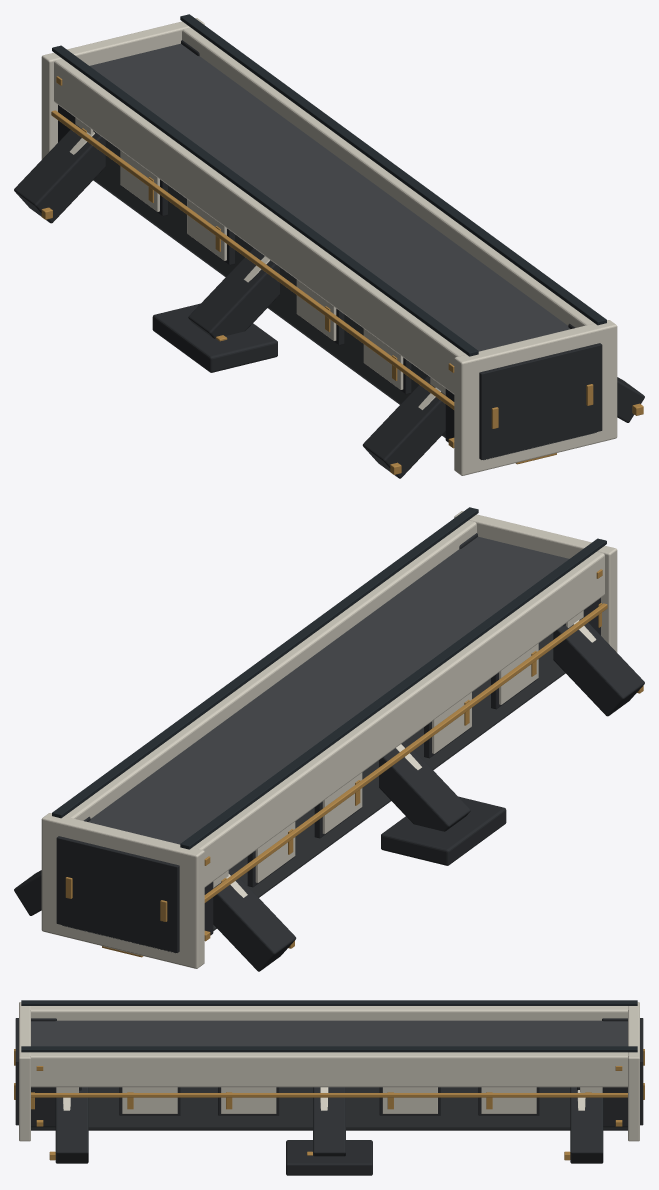
The model's file is SM_Aurelion_KIT_Z12OpenCanopySideGirder.fbx.
The picture shows the model from 3 angles, top to bottom: view 1: azimuth 30°, elevation 25°; view 2: azimuth 150°, elevation 25°; view 3: azimuth 270°, elevation 25°; orthographic projection. The views are drawn at different scales.
Visible parts, largest first — view 1: SM_Aurelion_KIT_Z12OpenCanopySideGirder; view 2: SM_Aurelion_KIT_Z12OpenCanopySideGirder; view 3: SM_Aurelion_KIT_Z12OpenCanopySideGirder.
Boxes of the visible parts, x1=… form: SM_Aurelion_KIT_Z12OpenCanopySideGirder: x1=14, y1=14, x2=644, y2=478; SM_Aurelion_KIT_Z12OpenCanopySideGirder: x1=14, y1=507, x2=644, y2=971; SM_Aurelion_KIT_Z12OpenCanopySideGirder: x1=14, y1=1000, x2=644, y2=1175.
Size of the model in its own units: 169 by 422 by 74.05.
